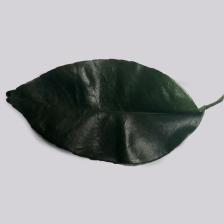healthy: (6, 57, 204, 166)
